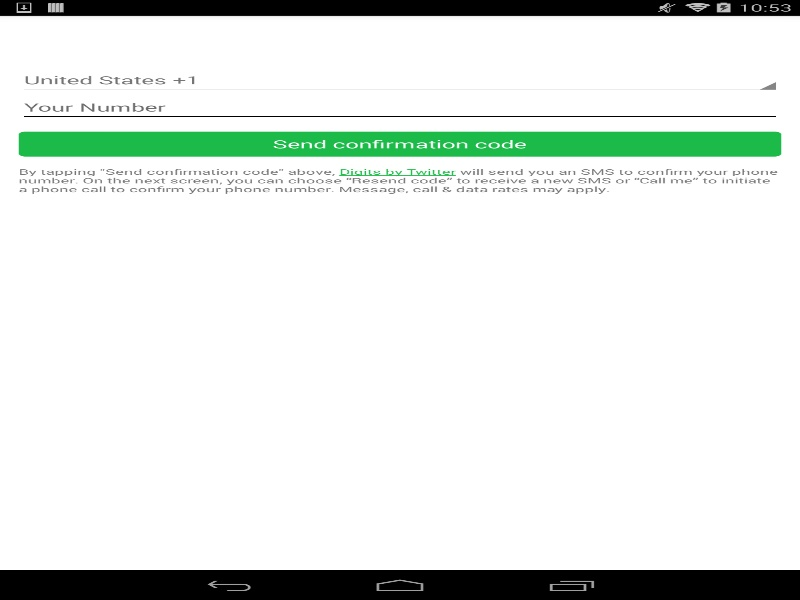Input: (18, 93, 781, 121)
